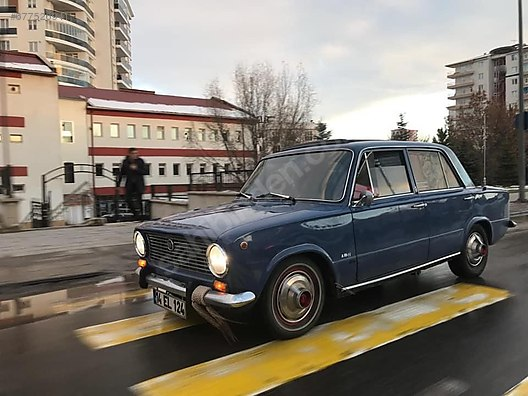murat: (131, 128, 513, 331)
